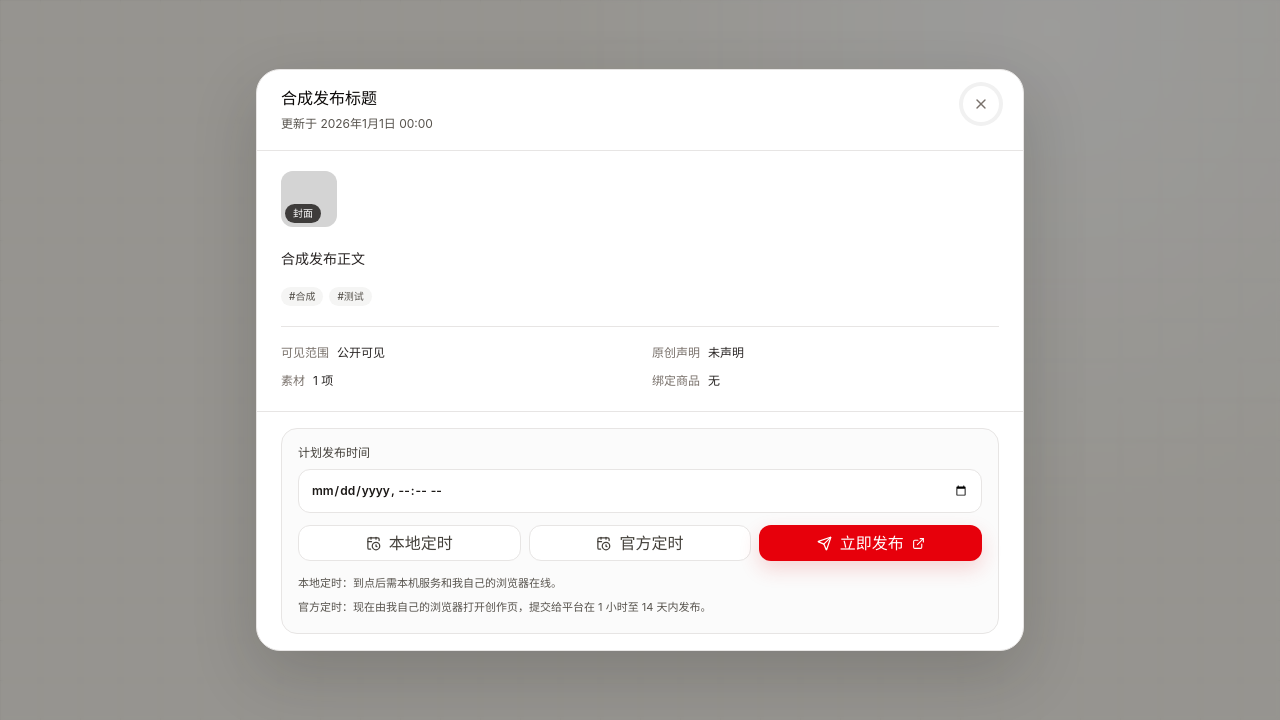
Test case: 草稿详情里的发布 › 返回修改可以撤回确认
Click the button "立即发布" at (871, 543), box [759, 525, 982, 561]
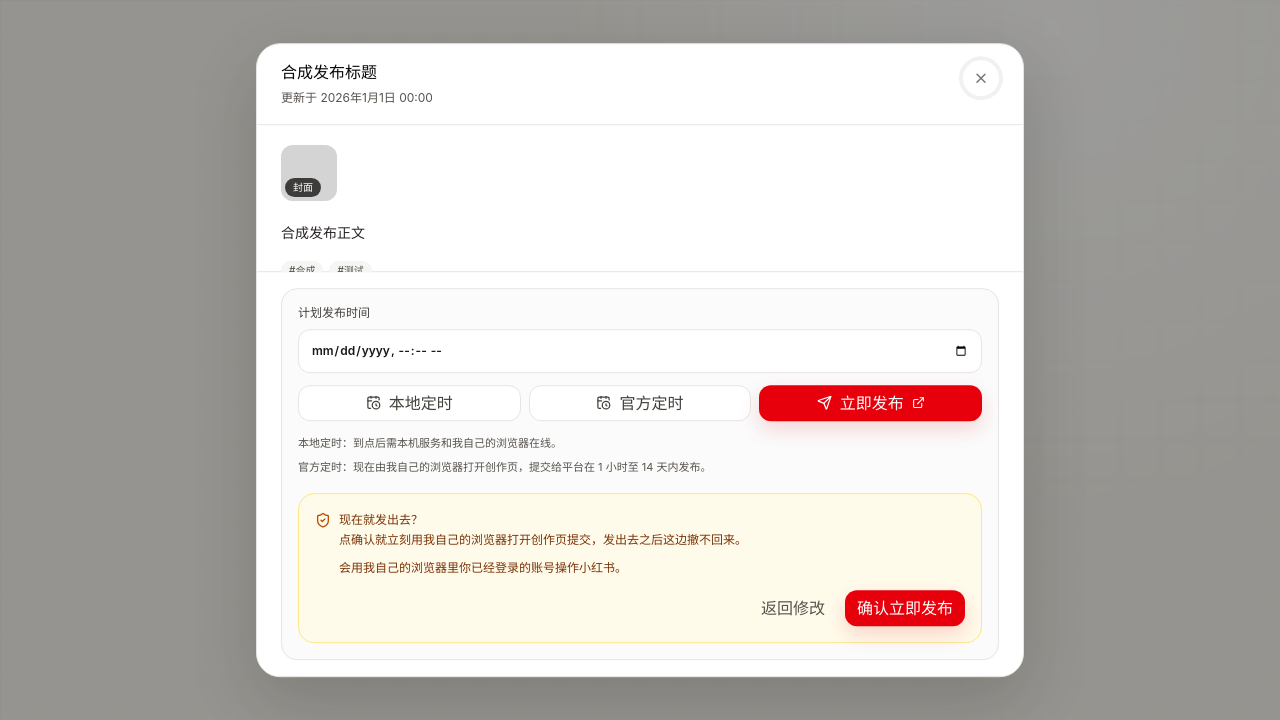
Expected: the text "发出去之后这边撤不回来" is shown, [339, 532, 747, 547]
Click the button "返回修改" at (793, 608), box [749, 590, 837, 626]
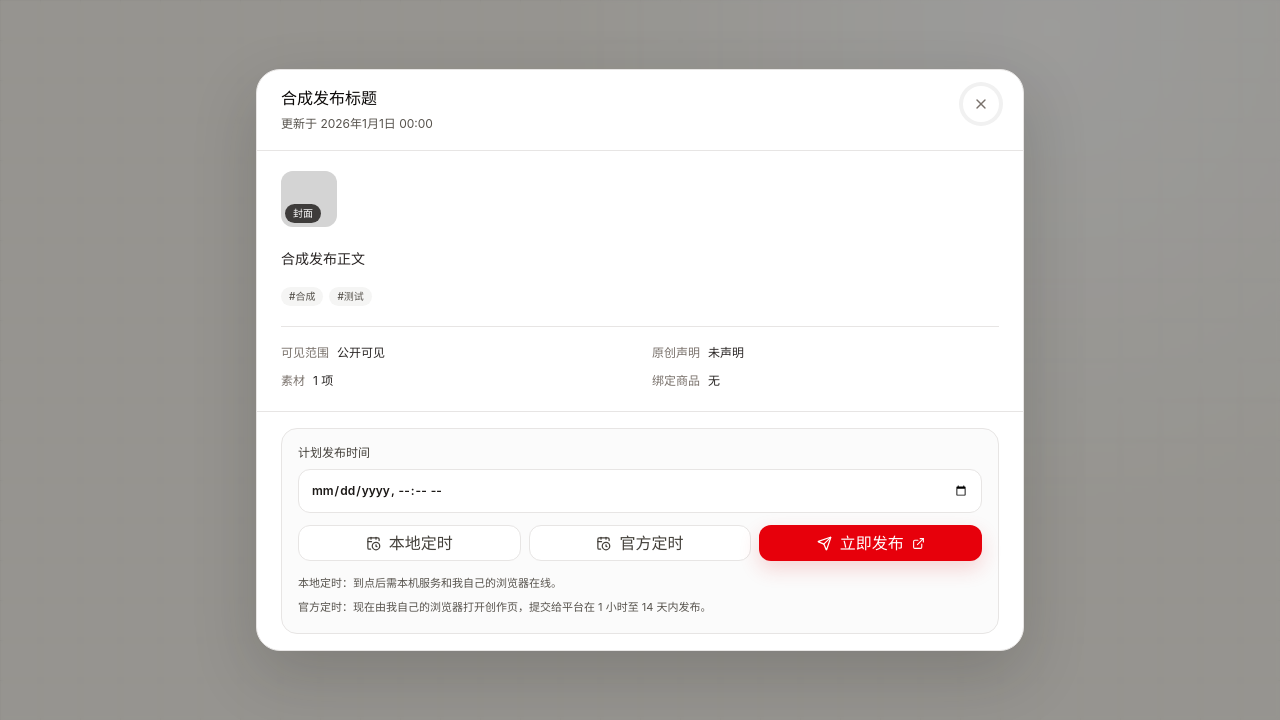
Expected: the field labelled "发布确认" is gone
